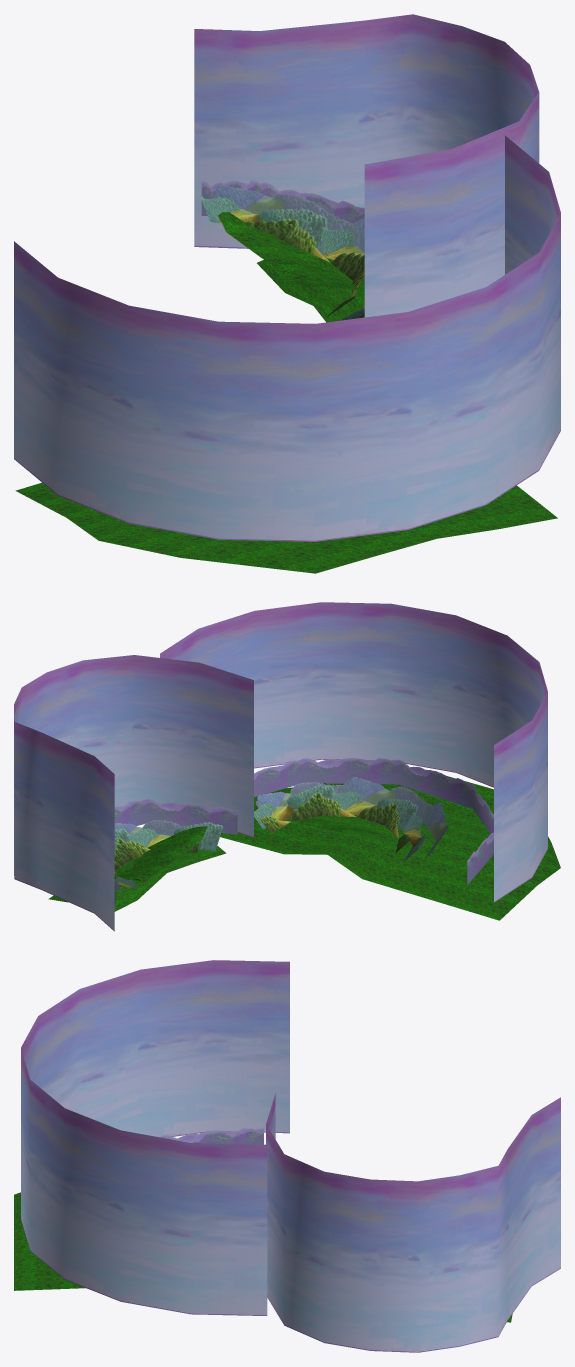
File: BAGENDINTERIOR_BE_BAGENDEXT.fbx
3 renders of one model, top to bottom at view 1: azimuth 30°, elevation 25°; view 2: azimuth 150°, elevation 25°; view 3: azimuth 270°, elevation 25°, orthographic. The views are drawn at different scales.
Visible parts, largest first — view 1: BAGENDINTERIOR_BE_BAGENDEXT; view 2: BAGENDINTERIOR_BE_BAGENDEXT; view 3: BAGENDINTERIOR_BE_BAGENDEXT.
Part boxes in pixels (bbox=[...]): BAGENDINTERIOR_BE_BAGENDEXT: bbox=[14, 14, 560, 573]; BAGENDINTERIOR_BE_BAGENDEXT: bbox=[14, 602, 560, 931]; BAGENDINTERIOR_BE_BAGENDEXT: bbox=[14, 960, 560, 1352].
Bounding box in the file's own units: 138234 × 56243 × 144450.
Materials: 9 (9 with a texture image).
